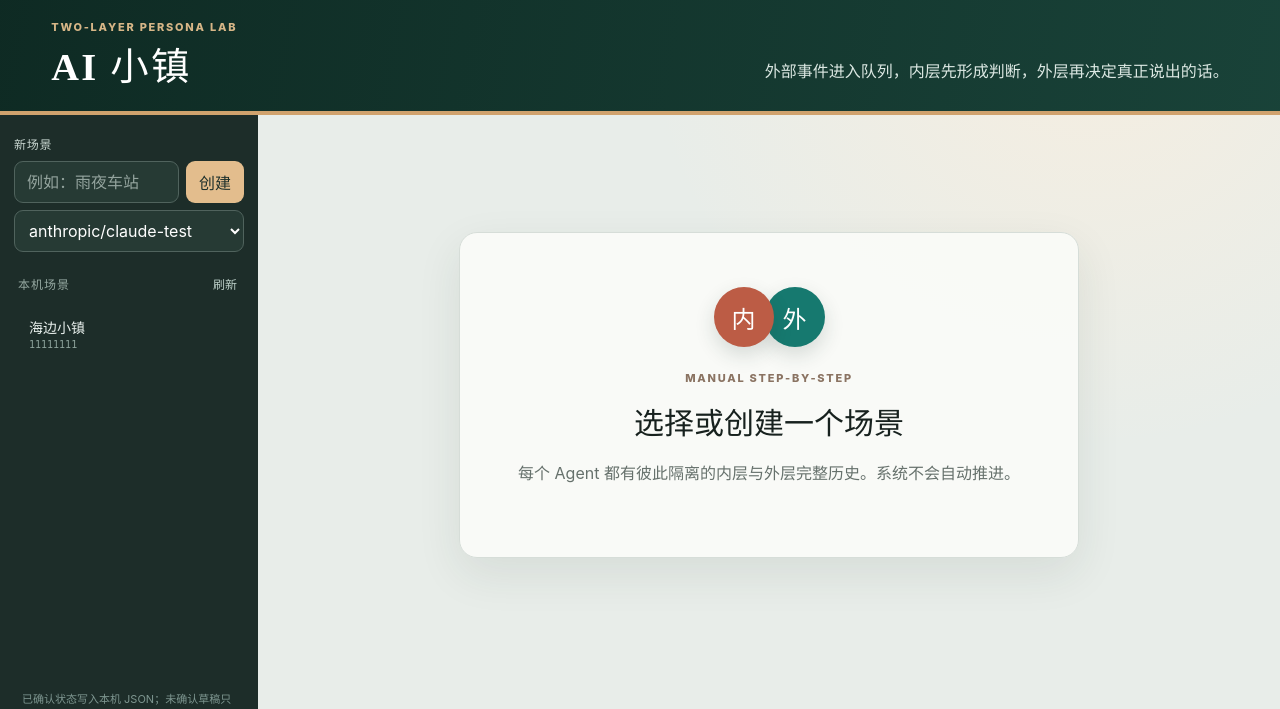
Scenario: App › deletes the open scene after confirm and returns to the welcome card
The width and height of the screenshot is (1280, 709).
Click the button "海边小镇 11111111" at (113, 334), box [19, 308, 207, 359]
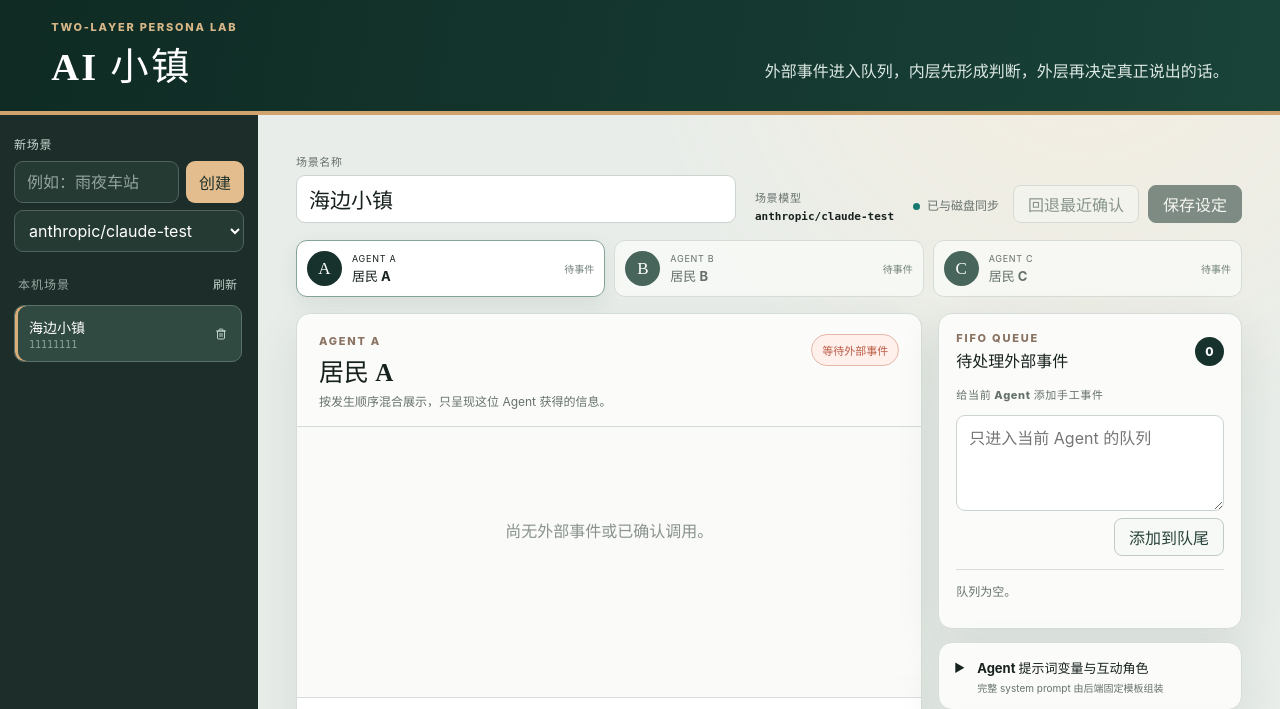
Now the button named "删除场景" is shown
Click the button named "删除场景" at (221, 334), box [211, 324, 231, 344]
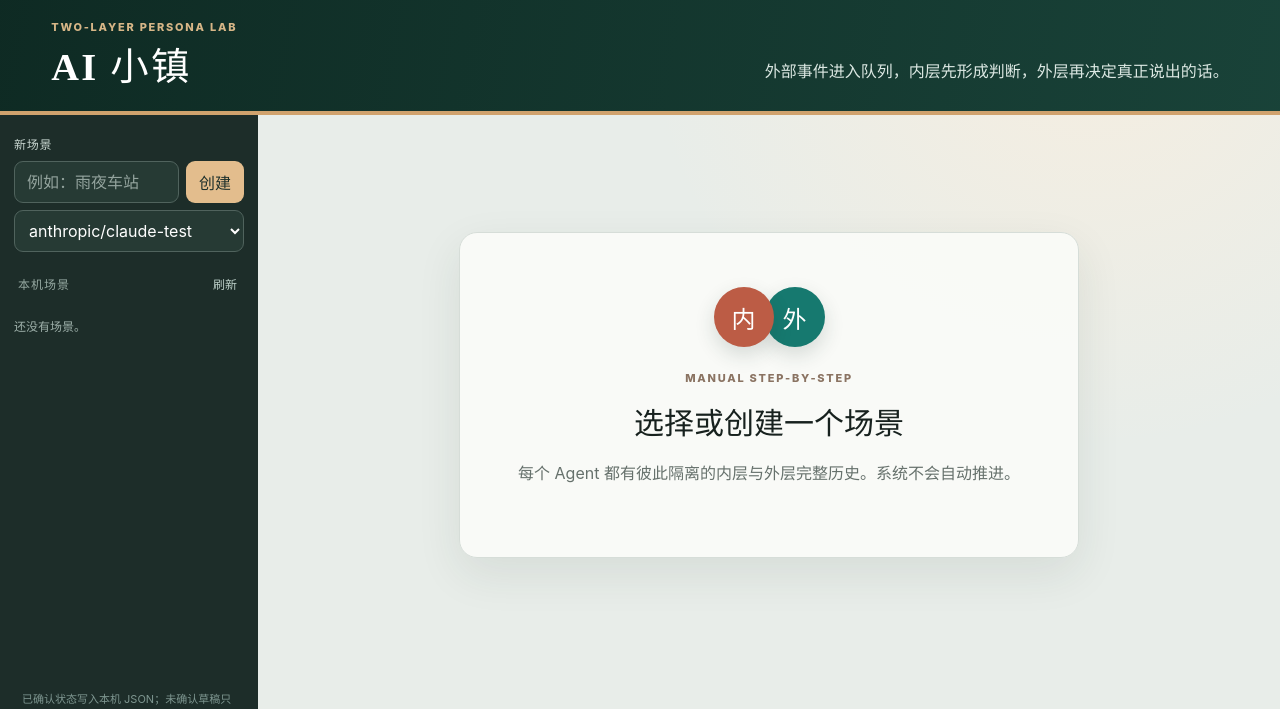
Now the text "选择或创建一个场景" is shown, box [634, 407, 904, 440]
Now the button is gone
